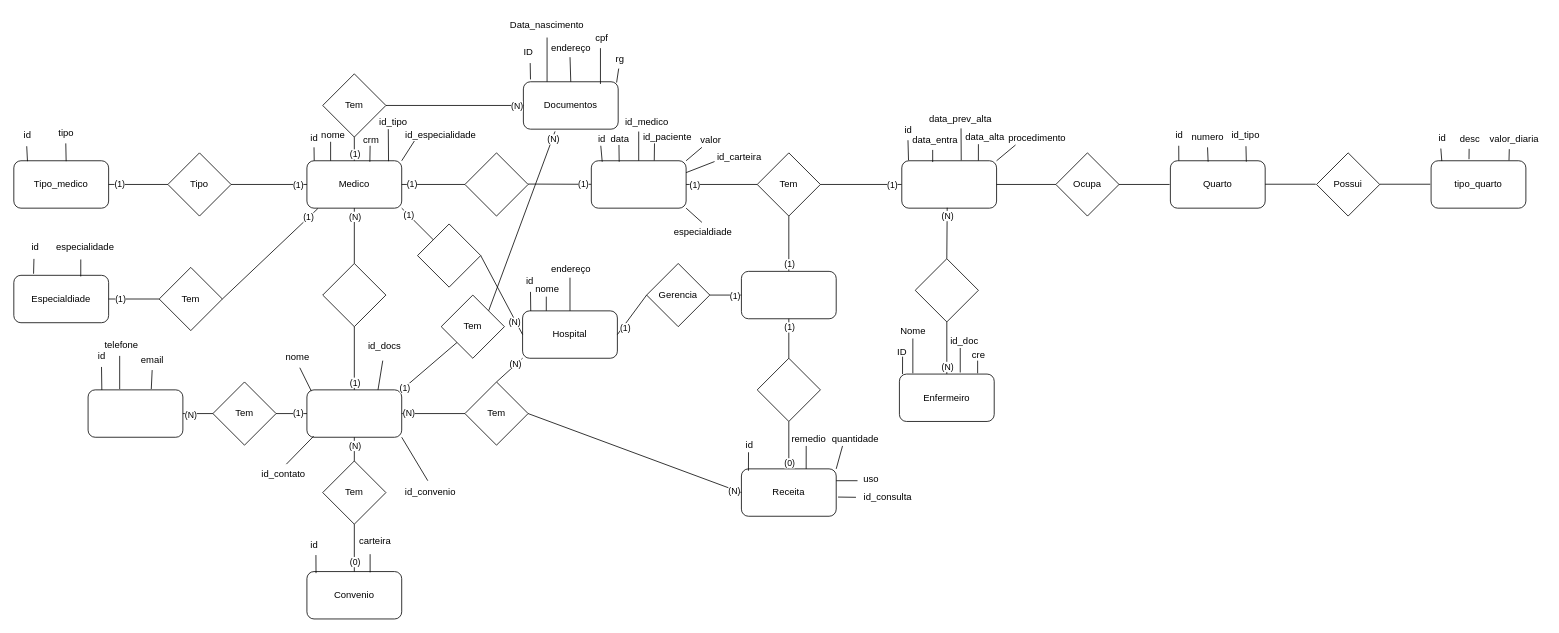
Some shapes in this 1559 by 633 pixel diagram are drawn without their labels. The shapes that lost their labels are listed below. From the top down, each one's centre as x and y in pixels, then its label:
the point at 496,184: Faz
the point at 638,184: Consulta
the point at 949,184: Internação
the point at 449,255: Em
the point at 354,295: Passa
the point at 788,295: Diagnostico
the point at 946,290: Requer
the point at 788,389: Gera
the point at 135,413: Contato
the point at 354,413: Paciente
